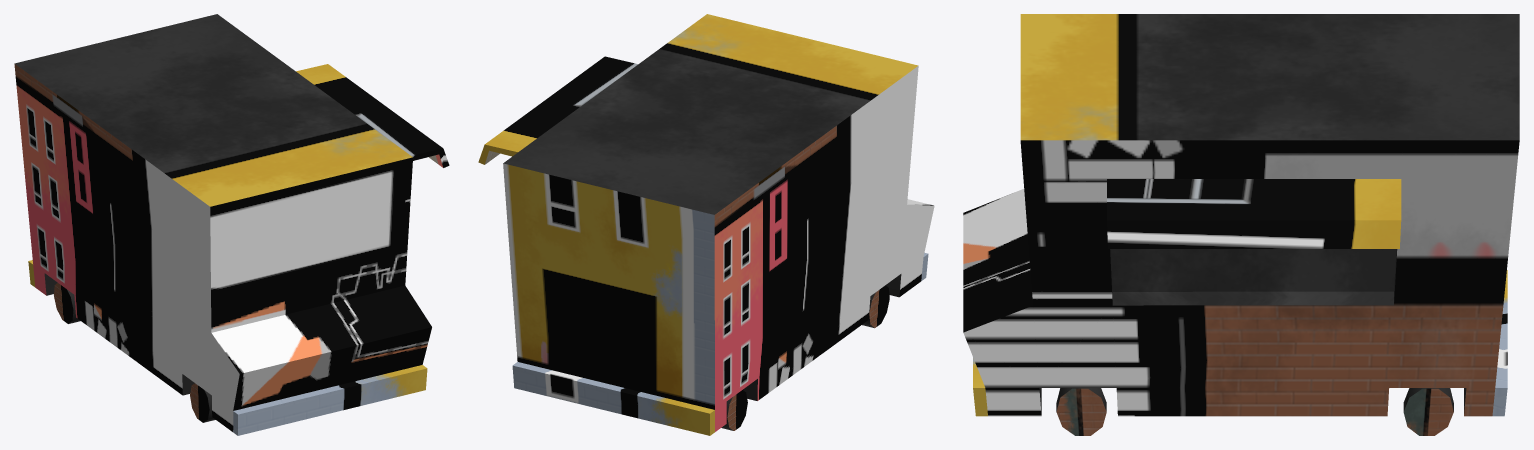
The model's file is Ice_cream_truck_01.FBX.
3 views of the same model, side by side, from view 1: azimuth 30°, elevation 25°; view 2: azimuth 150°, elevation 25°; view 3: azimuth 270°, elevation 25° (orthographic). The views are drawn at different scales.
Visible parts, largest first — view 1: Box066; view 2: Box066; view 3: Box066.
Boxes of the visible parts, x1,y1,x2,y2 form: Box066: (14, 14, 449, 435); Box066: (478, 14, 934, 435); Box066: (963, 14, 1519, 435).
Bounding box in the file's own units: 181 × 149 × 250.
